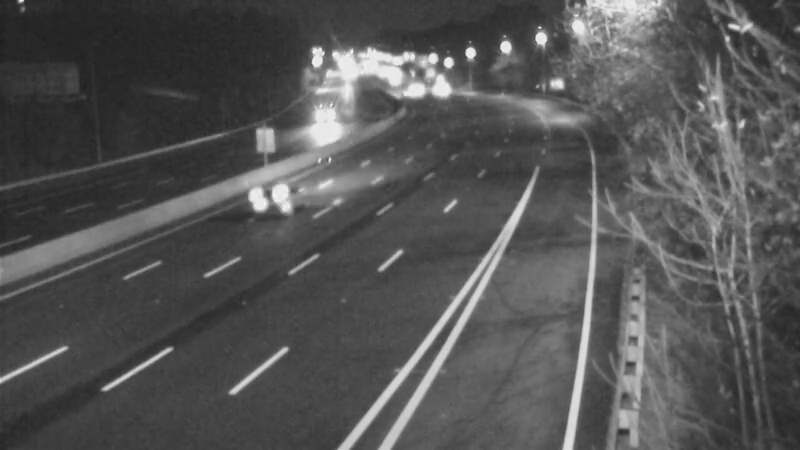vehicle: (240, 179, 320, 259), (411, 63, 461, 113), (297, 93, 347, 143)
